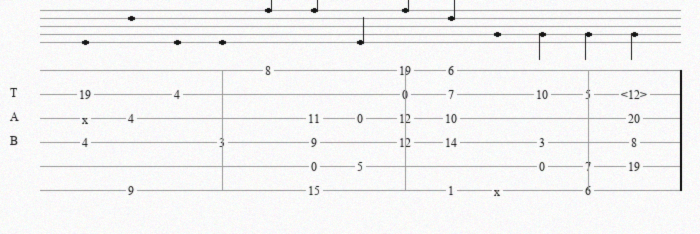0: (311, 160, 321, 173), (357, 112, 367, 125), (402, 88, 412, 101), (539, 160, 549, 173)
1: (448, 184, 458, 197)
10: (445, 112, 461, 125), (536, 88, 552, 101)
11: (308, 112, 324, 125)
12: (399, 136, 415, 149), (399, 112, 415, 125)
14: (445, 136, 461, 149)
15: (308, 184, 324, 197)
19: (79, 88, 95, 101), (399, 64, 415, 77), (628, 160, 644, 173)
20: (628, 112, 644, 125)
3: (219, 136, 229, 149), (539, 136, 549, 149)
4: (82, 136, 92, 149), (128, 112, 138, 125), (174, 88, 184, 101)
5: (357, 160, 367, 173), (585, 88, 595, 101)
6: (448, 64, 458, 77), (585, 184, 595, 197)
7: (448, 88, 458, 101), (585, 160, 595, 173)
8: (265, 64, 275, 77), (631, 136, 641, 149)
9: (128, 184, 138, 197), (311, 136, 321, 149)
harmonic: (621, 88, 651, 101)
x: (82, 113, 92, 123), (494, 185, 504, 195)
